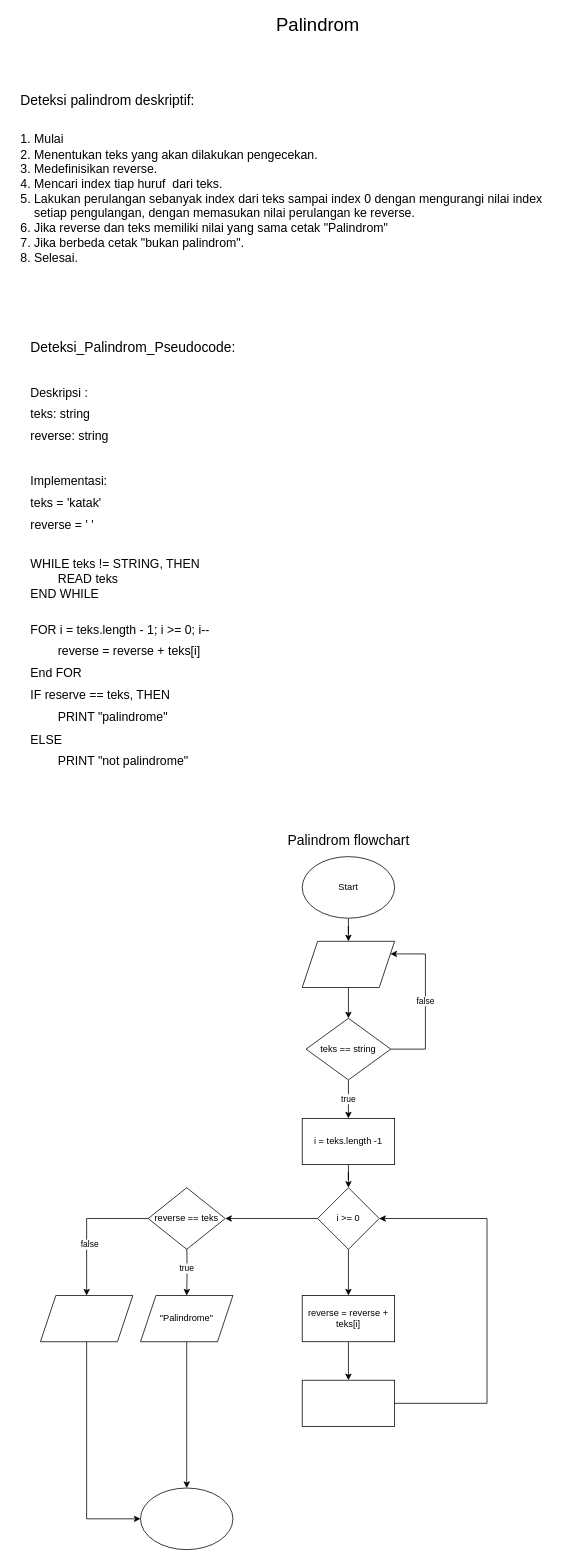
Image size: 565x1563. Some labels were removed from this diagram. The shapes that lost their labels are listed below. From the top down, each one's box as (x1, y1, x2, y2) in pixels, then its label:
(301, 941, 395, 988): Input teks
(40, 1295, 133, 1342): "Not Palindrome"
(301, 1379, 395, 1426): i = i - 1
(140, 1487, 233, 1550): End
